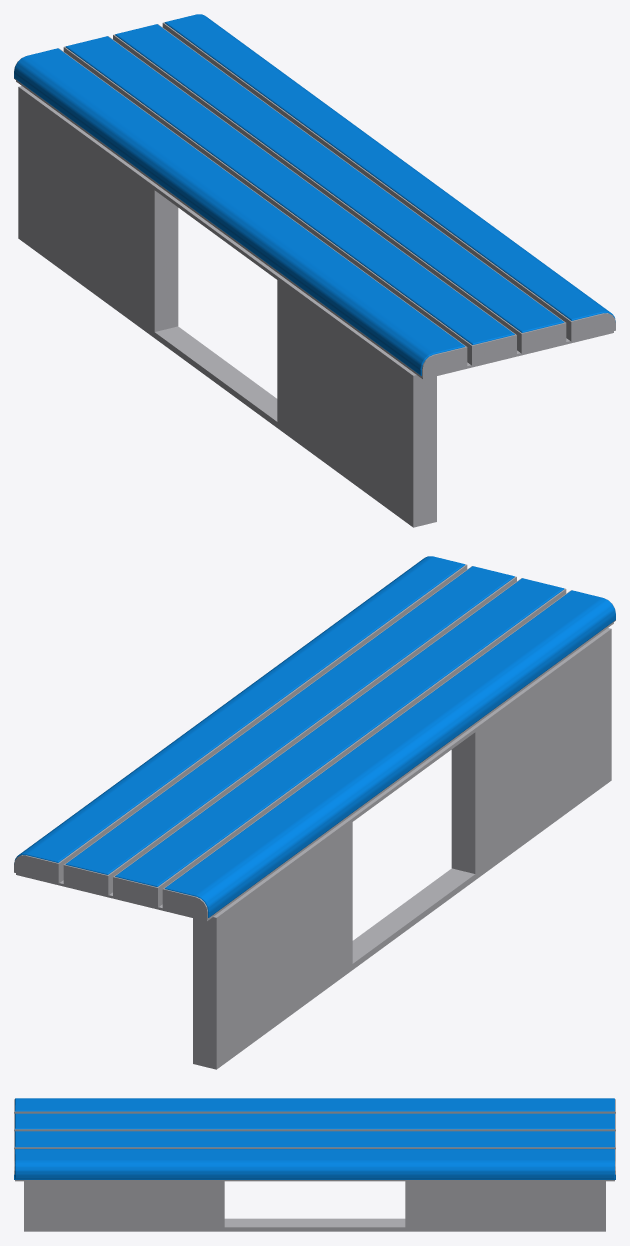
File: Bench.fbx
The picture shows the model from 3 angles, top to bottom: view 1: azimuth 30°, elevation 25°; view 2: azimuth 150°, elevation 25°; view 3: azimuth 270°, elevation 25°; orthographic projection. The views are drawn at different scales.
Visible parts, largest first — view 1: Bench; view 2: Bench; view 3: Bench.
Part boxes in pixels (x1,y1,x2,y2): Bench: (14, 14, 615, 527); Bench: (14, 556, 615, 1069); Bench: (14, 1098, 615, 1231).
Bounding box in the file's own units: 167 × 142 × 600.
